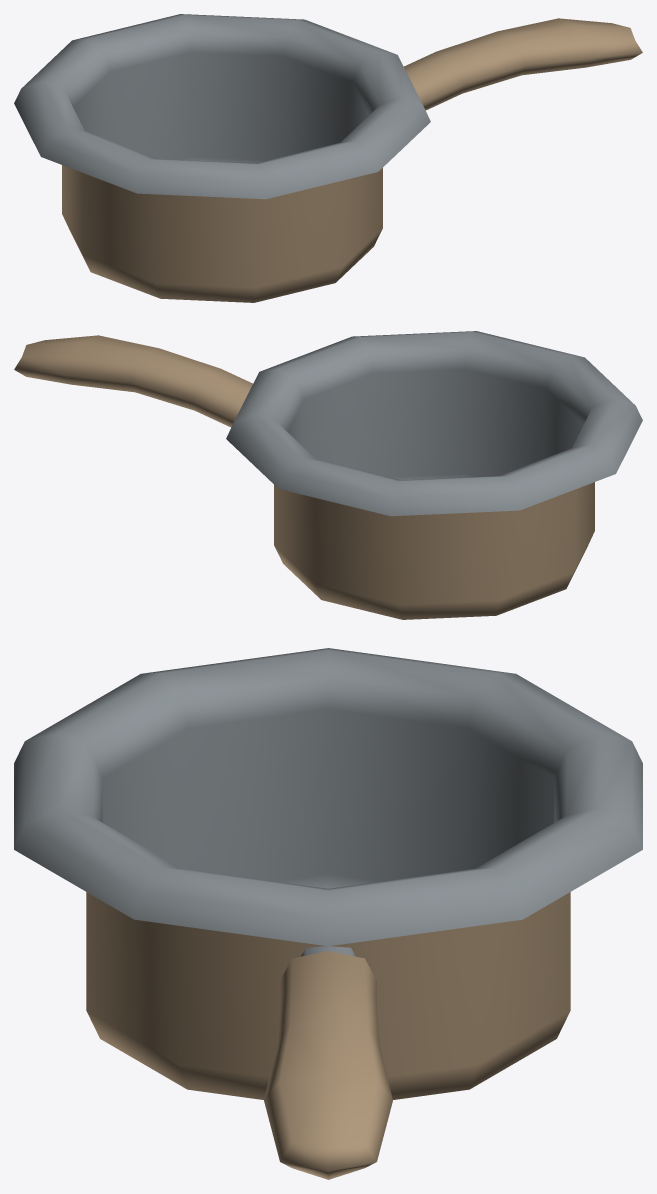
The model's file is SM_fryingPan_1.fbx.
3 renders of one model, top to bottom at view 1: azimuth 30°, elevation 25°; view 2: azimuth 150°, elevation 25°; view 3: azimuth 270°, elevation 25°, orthographic. The views are drawn at different scales.
Visible parts, largest first — view 1: SM_fryingPan_1; view 2: SM_fryingPan_1; view 3: SM_fryingPan_1.
Part boxes in pixels (x1,y1,x2,y2): SM_fryingPan_1: (14, 14, 642, 302); SM_fryingPan_1: (14, 331, 642, 619); SM_fryingPan_1: (14, 648, 642, 1179).
Size of the model in its own units: 79.24 by 20.12 by 46.02.
